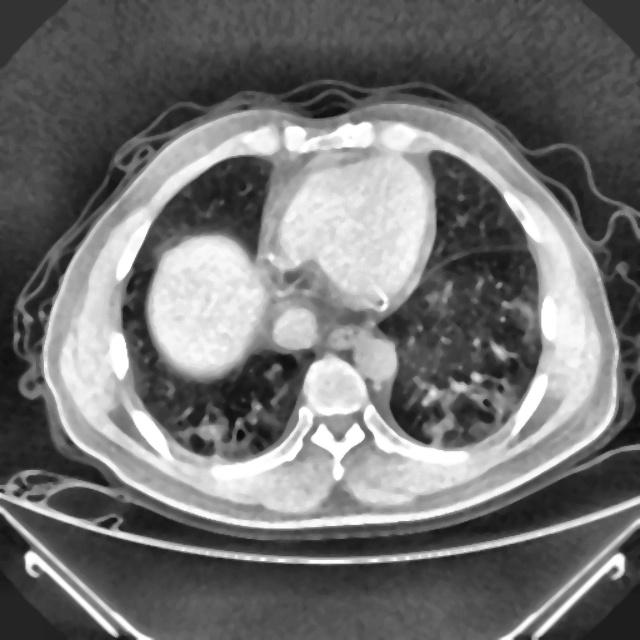covid: (26, 86, 627, 539)
